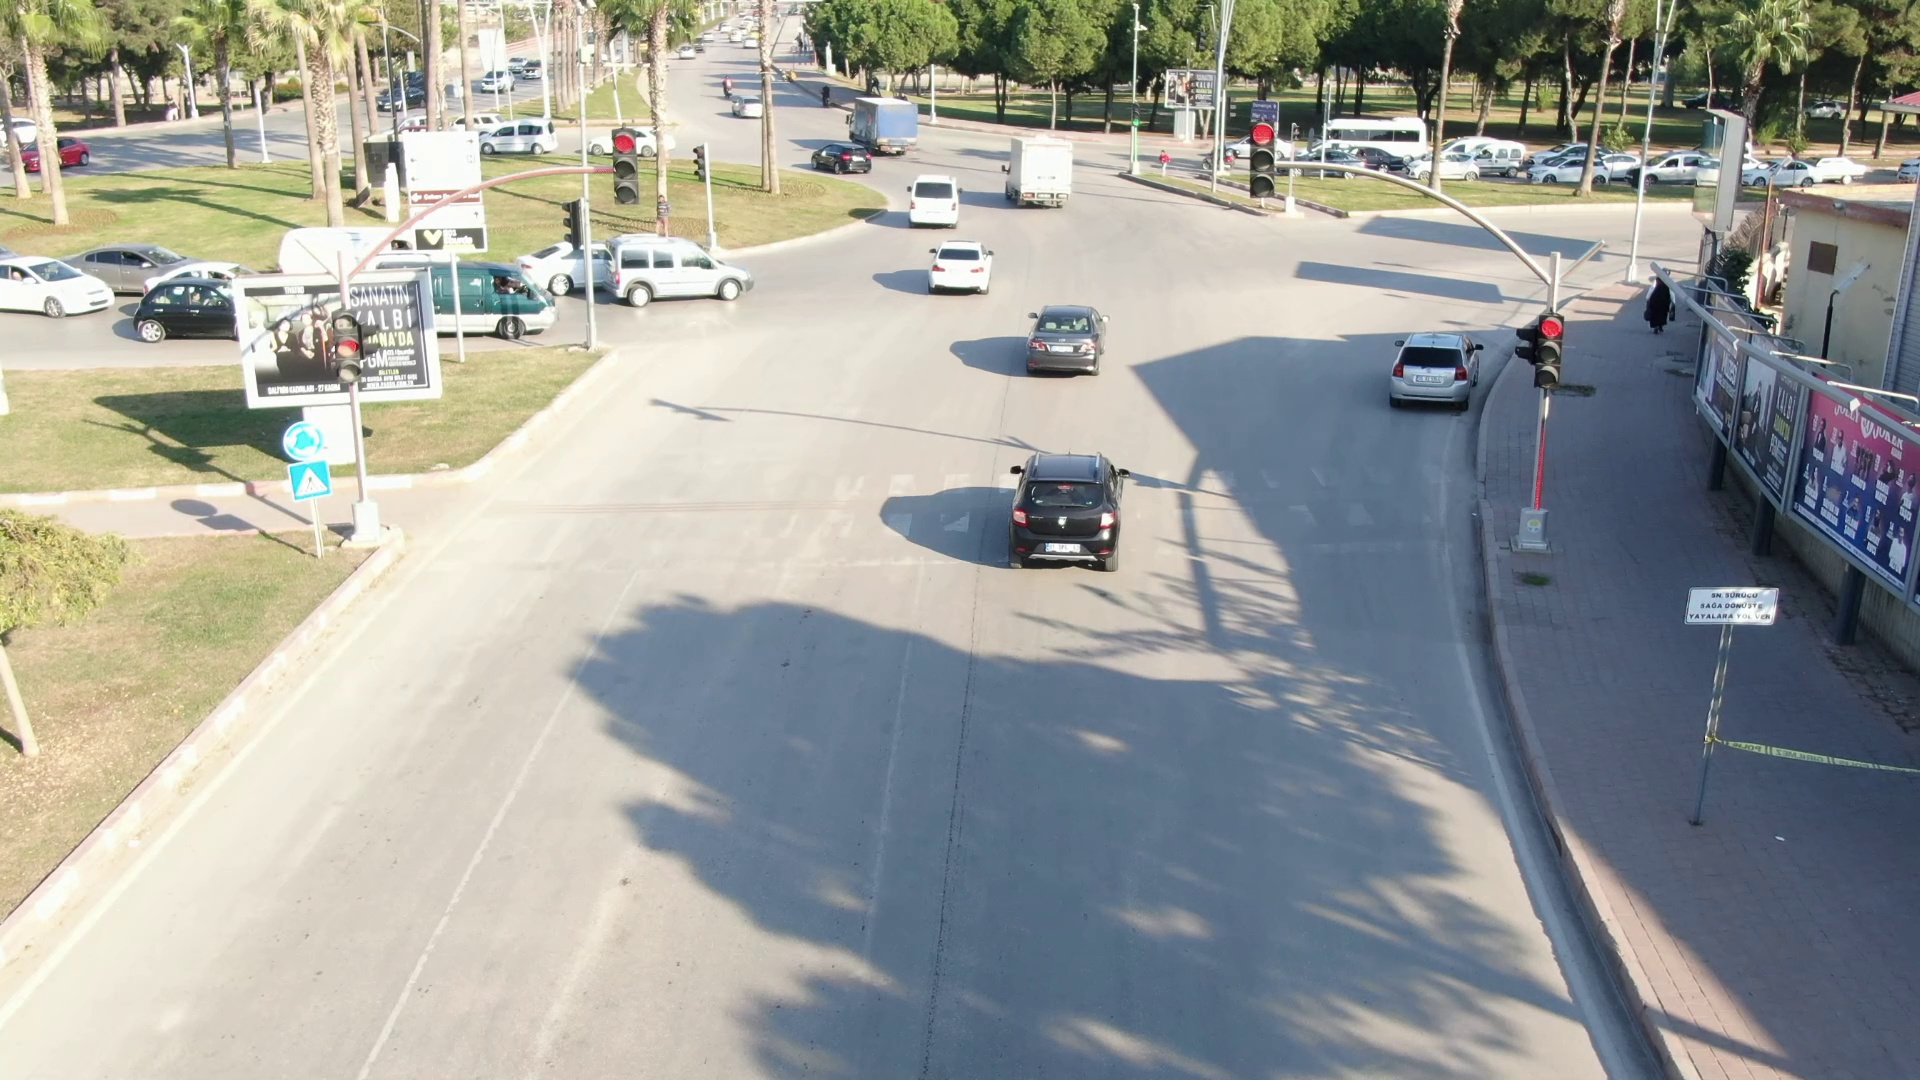car: (972, 428, 1153, 587), (595, 228, 786, 325), (1, 235, 124, 331), (1009, 288, 1131, 382), (1375, 322, 1489, 417), (990, 130, 1095, 222), (838, 87, 931, 160), (920, 232, 1003, 304), (896, 166, 972, 235), (476, 113, 573, 165), (800, 130, 882, 182), (1523, 152, 1611, 195)
person: (1630, 257, 1694, 341)
